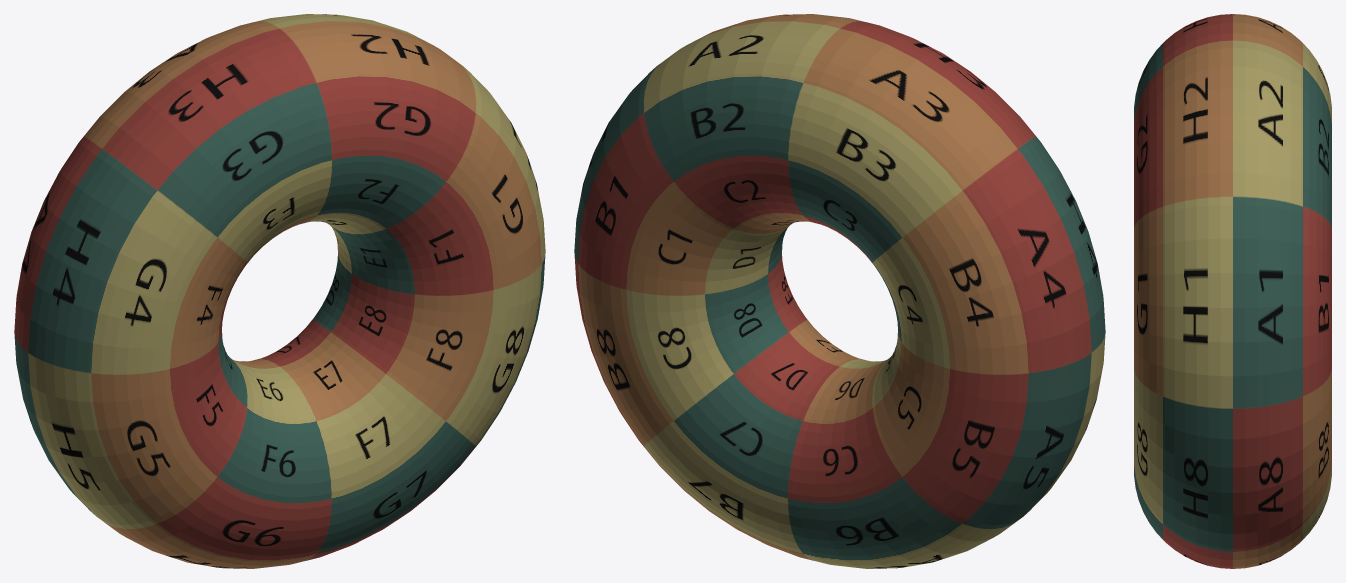
The model's file is texture_torus_R12_r30.glb.
3 views of the same model, side by side, from view 1: azimuth 30°, elevation 25°; view 2: azimuth 150°, elevation 25°; view 3: azimuth 270°, elevation 25° (orthographic). The views are drawn at different scales.
Visible parts, largest first — view 1: world; view 2: world; view 3: world.
Part boxes in pixels (x1,y1,x2,y2): world: (14, 14, 545, 568); world: (574, 14, 1105, 568); world: (1134, 14, 1331, 568).
Bounding box in the file's own units: 28 × 27.94 × 9.98.
1 material, 1 textured.
